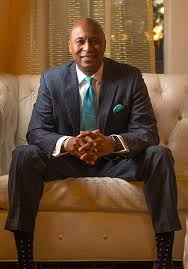s.black: (74, 27, 101, 65)
